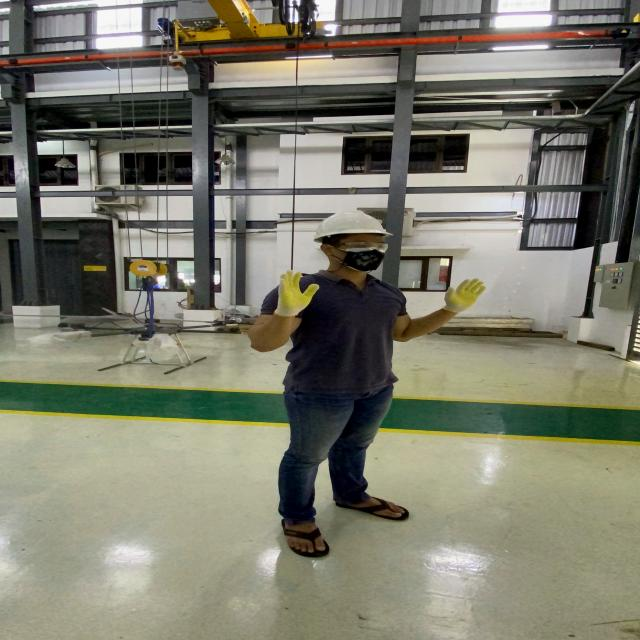face_mask: (338, 239, 391, 273)
glasses: (324, 239, 393, 253)
hand_glove: (270, 270, 322, 315), (437, 277, 490, 312)
head_helmet: (314, 207, 391, 239)
person: (236, 207, 488, 562)
